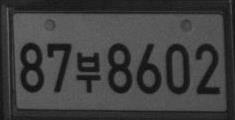0: (165, 43, 190, 95)
2: (194, 42, 220, 94)
6: (136, 43, 162, 94)
7: (46, 42, 72, 93)
8: (106, 42, 133, 94), (19, 41, 44, 94)
부: (75, 51, 101, 92)
